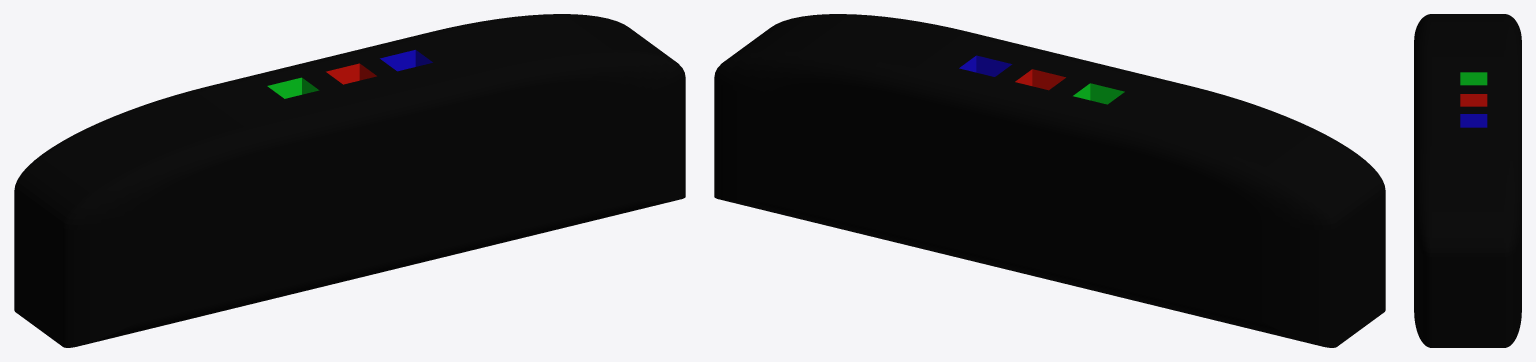
File: Puzzle.fbx
3 renders of one model, left to right at view 1: azimuth 30°, elevation 25°; view 2: azimuth 150°, elevation 25°; view 3: azimuth 270°, elevation 25°, orthographic. The views are drawn at different scales.
Parts seen in each view (by area): view 1: Cube; view 2: Cube; view 3: Cube.
Boxes of the visible parts, <box> form: Cube: <box>14,14,685,347</box>; Cube: <box>714,14,1385,347</box>; Cube: <box>1414,14,1521,347</box>.
Size of the model in its own units: 318 by 85.67 by 62.48.
